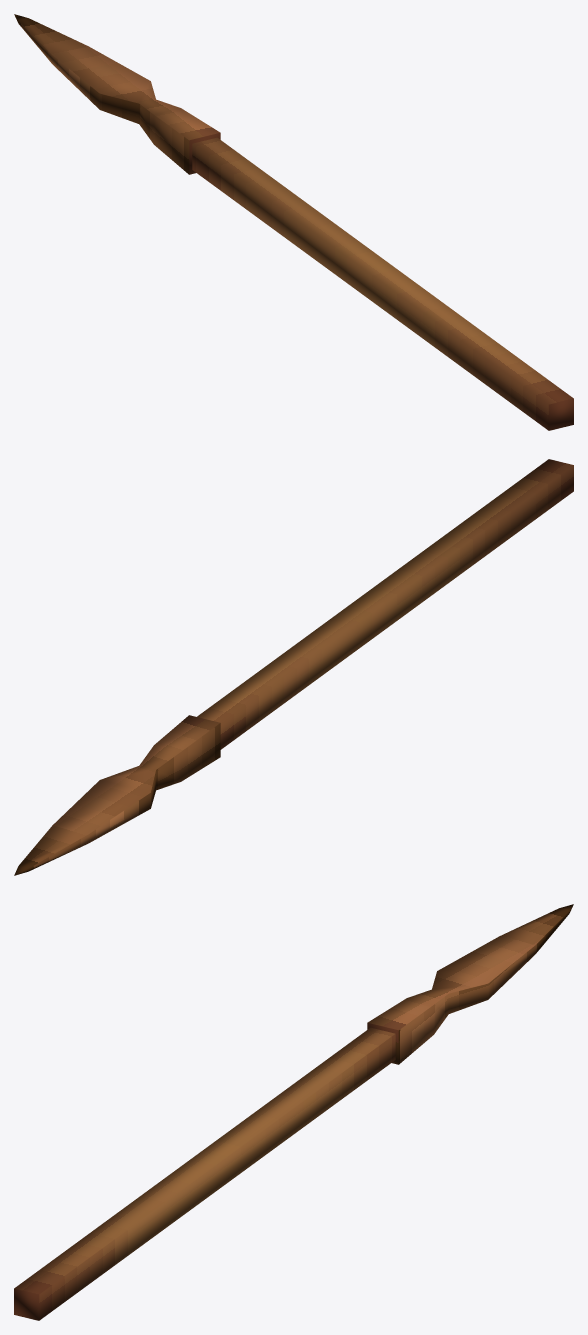
File: aventine_arbalest_bolt.glb
The picture shows the model from 3 angles, top to bottom: view 1: azimuth 30°, elevation 25°; view 2: azimuth 150°, elevation 25°; view 3: azimuth 330°, elevation 25°; orthographic projection.
Visible parts, largest first — view 1: arbalest_bolt, arbalest_bolt.001; view 2: arbalest_bolt, arbalest_bolt.001; view 3: arbalest_bolt, arbalest_bolt.001.
Part boxes in pixels (bbox=[...]): arbalest_bolt: bbox=[192, 137, 573, 430]; arbalest_bolt.001: bbox=[14, 14, 220, 174]; arbalest_bolt: bbox=[197, 459, 573, 749]; arbalest_bolt.001: bbox=[14, 715, 220, 875]; arbalest_bolt: bbox=[14, 1027, 395, 1320]; arbalest_bolt.001: bbox=[367, 904, 573, 1064].
Size of the model in its own units: 0.0791 by 0.051 by 1.47.
Materials: 2 (2 with a texture image).
